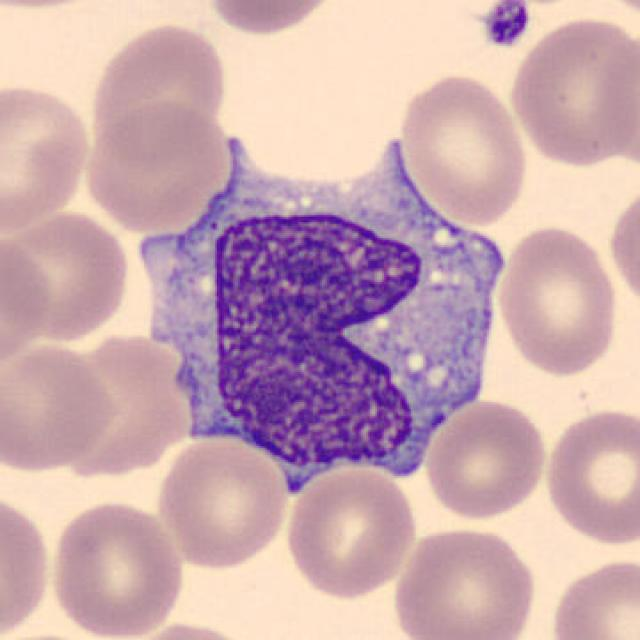Monocyte: (135, 127, 526, 494)
Platelets: (478, 0, 534, 51)
RBC: (393, 70, 531, 226), (85, 18, 231, 164), (505, 14, 638, 171), (492, 220, 622, 379), (80, 99, 235, 232), (45, 497, 186, 640), (153, 432, 291, 573), (281, 462, 419, 601), (3, 206, 134, 346), (390, 522, 540, 640), (0, 338, 119, 474), (422, 397, 550, 522), (0, 78, 94, 236), (540, 402, 640, 548), (0, 488, 55, 640), (0, 227, 55, 374), (546, 555, 640, 640), (201, 0, 345, 39), (606, 183, 640, 312), (116, 619, 260, 640)
